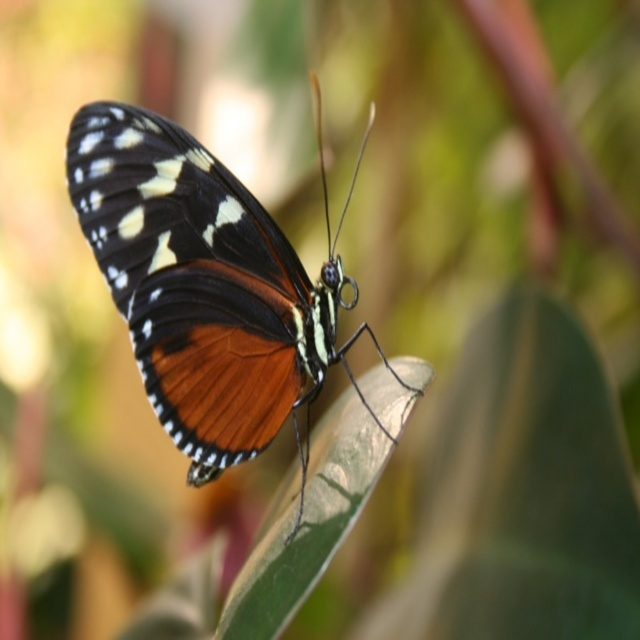Butterfly: (65, 71, 424, 546)
